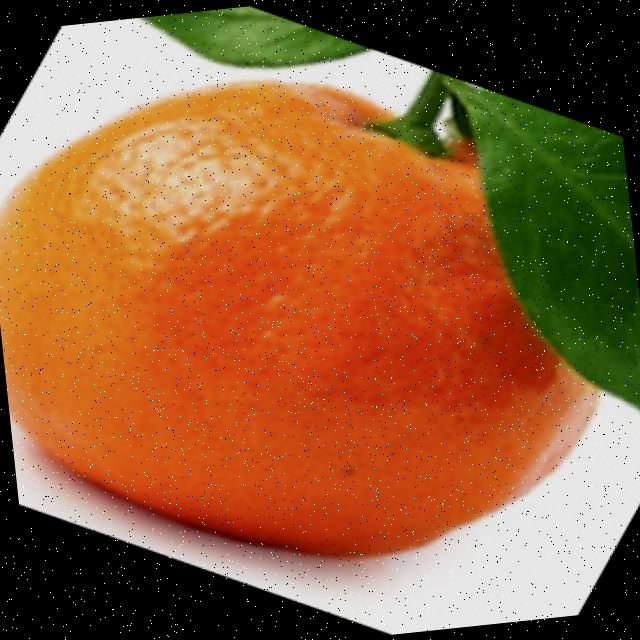orange: (0, 42, 615, 595)
